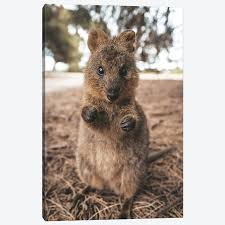quokka: (58, 22, 155, 207)
